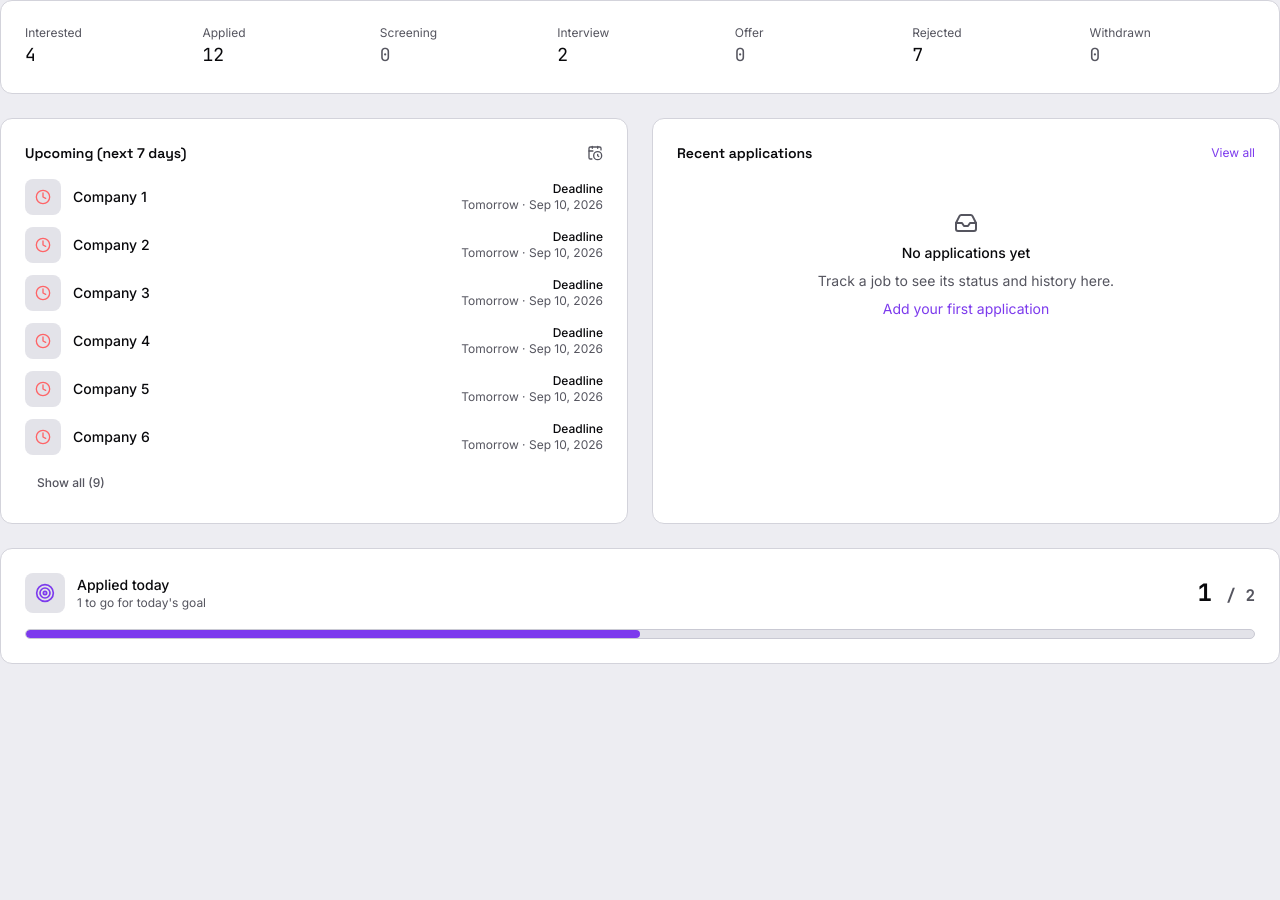
Test: JobsOverview upcoming overflow › shows six rows until asked for the rest, then collapses again
The width and height of the screenshot is (1280, 900).
Expected: the link "Company 6" is shown, [73,428,150,445]
Expected: the link "Company 7" is not shown
Click the button "Show all (9)": (71, 483) [25,467,117,499]
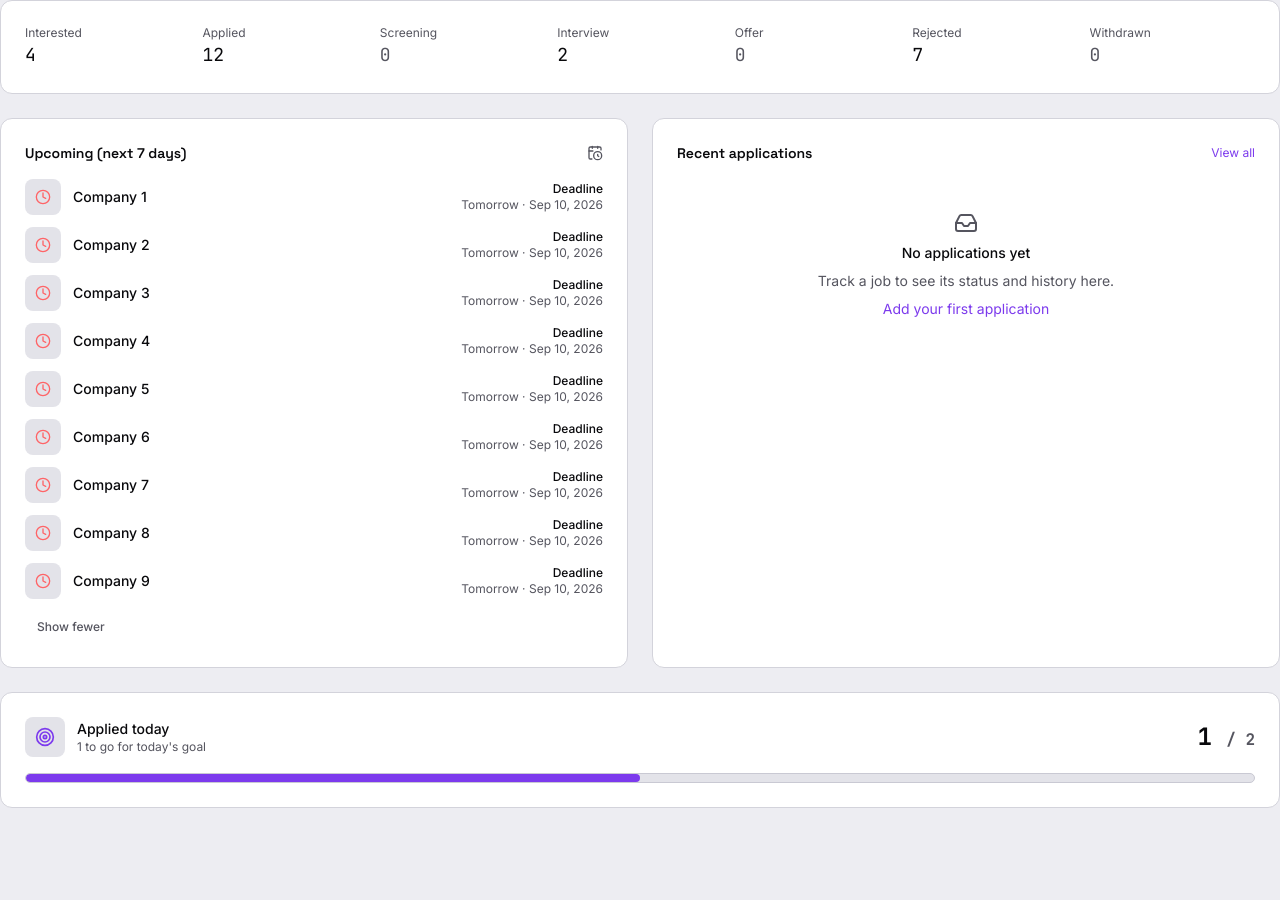
Result: the link "Company 9" is shown at [73,572,150,589]
Result: the button "Show fewer" is expanded
Click the button "Show fewer": (71, 627) [25,611,117,643]
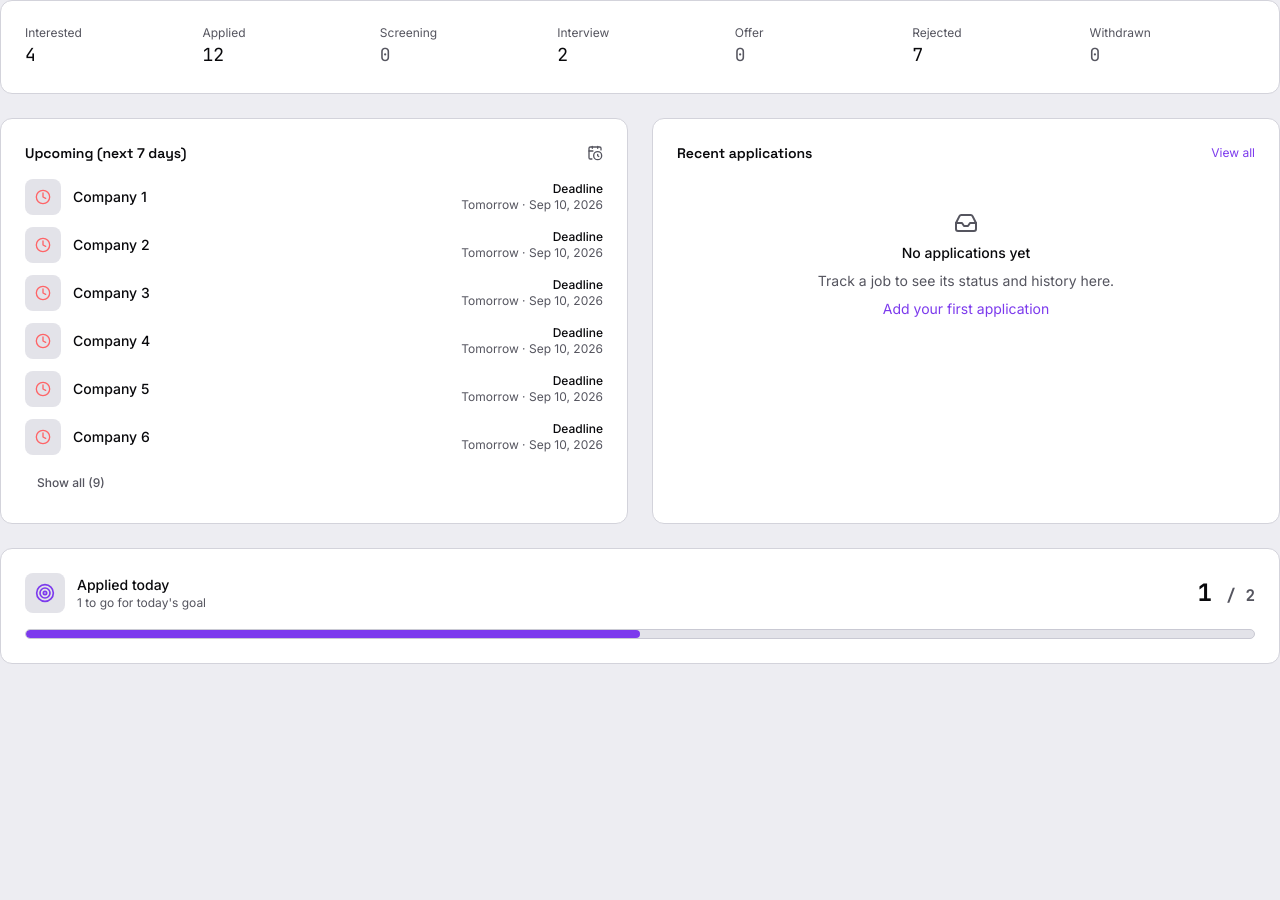
Result: the link "Company 7" is gone
